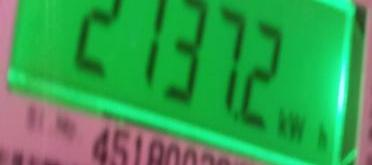.: (274, 105, 333, 151)
0: (232, 109, 241, 122)
2: (145, 0, 173, 87)
3: (240, 21, 282, 131), (71, 0, 125, 79)
4: (168, 0, 209, 106)
8: (217, 7, 248, 113)
